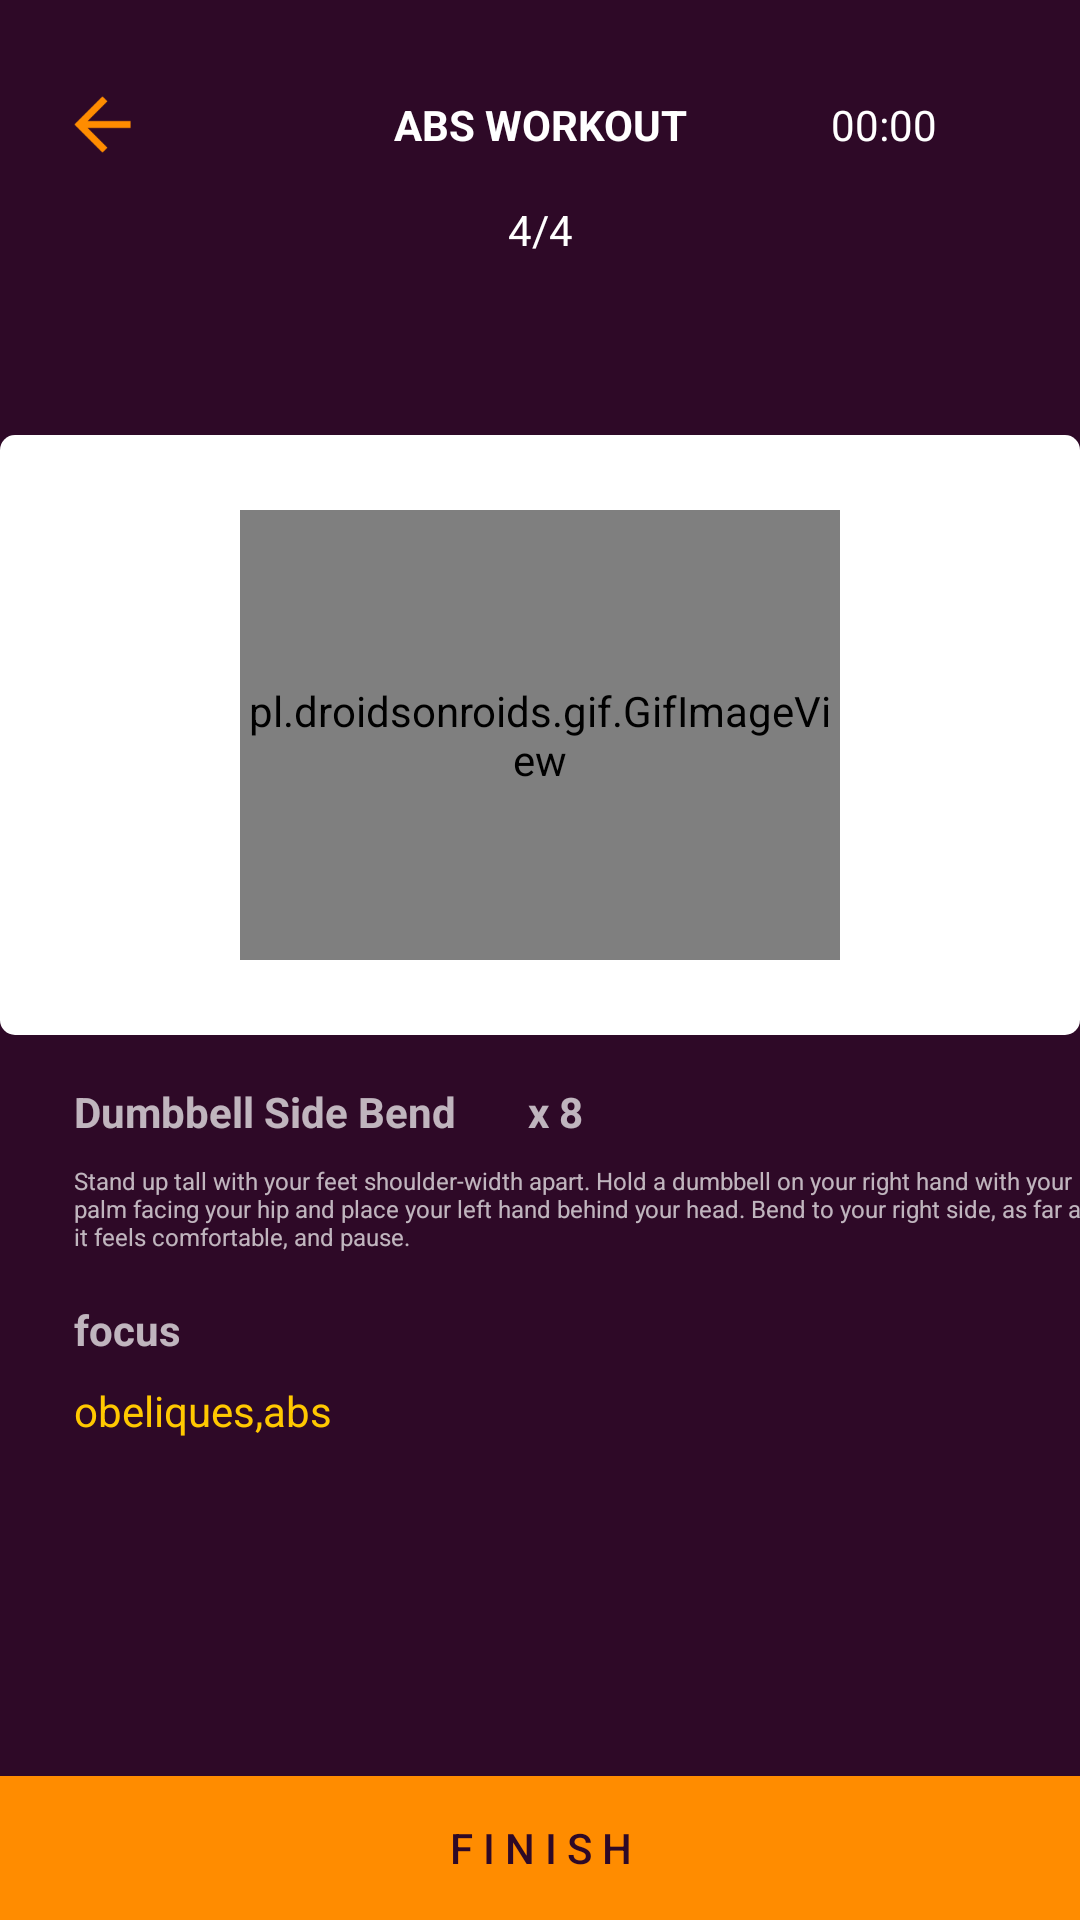

Icons on this 1080 × 1920 Android screen, each with its box as (x1, y1, x2, y2):
back: (74, 96, 131, 153)
